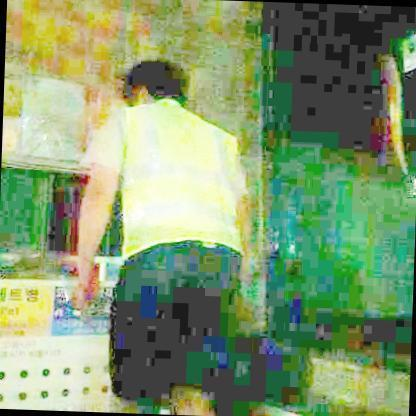no-helmet: (117, 59, 184, 107)
vest: (118, 97, 247, 261)
